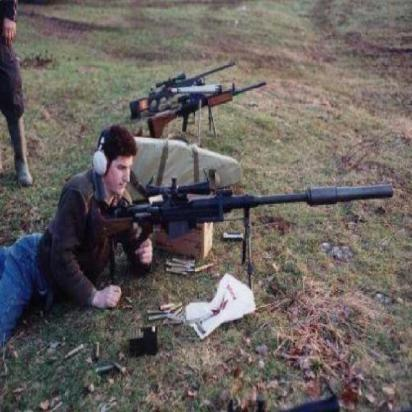Gun: (96, 171, 400, 287)
